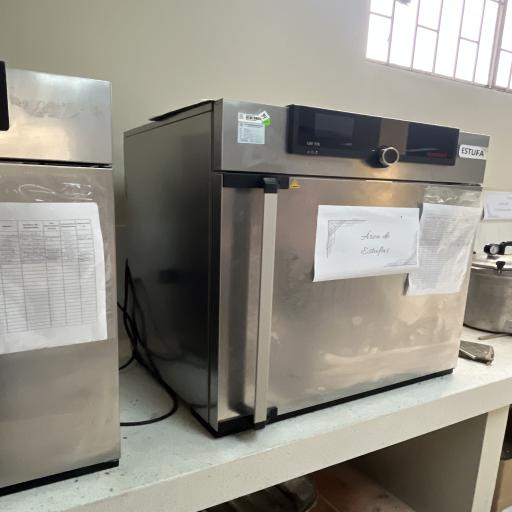Estufa_Memmert: (118, 93, 494, 439)
